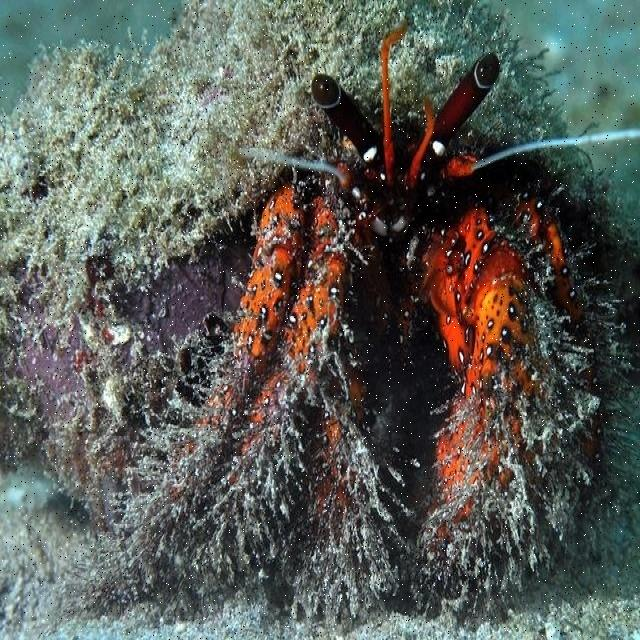reefs: (0, 24, 639, 617)
